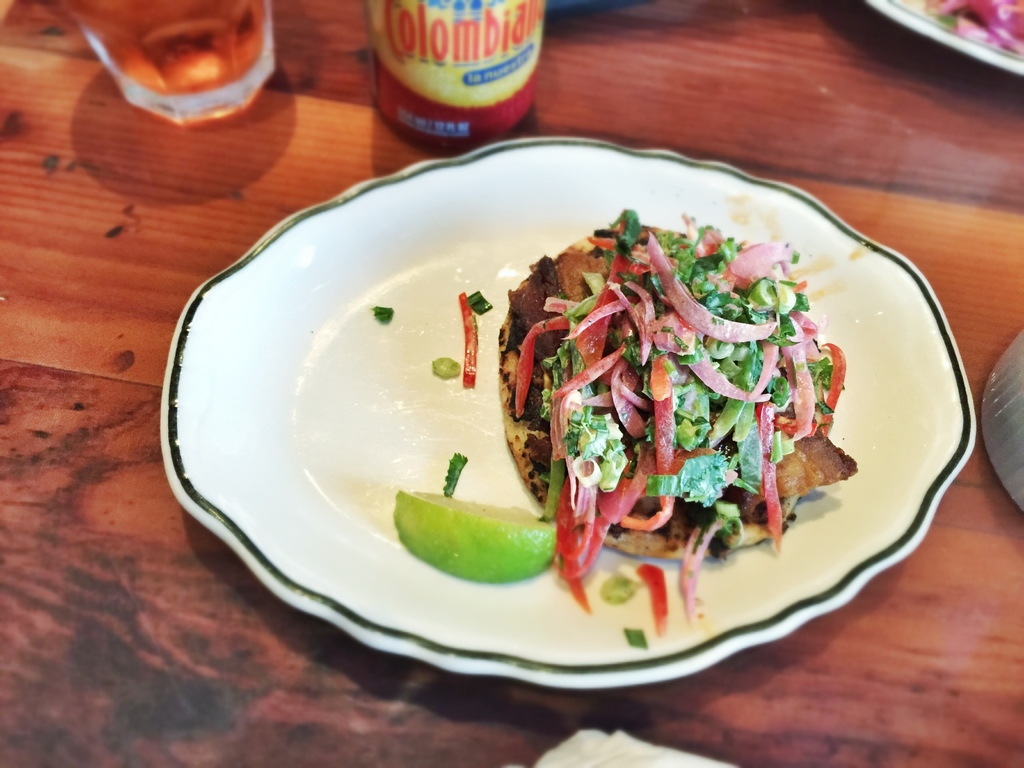taco: (485, 210, 856, 633)
